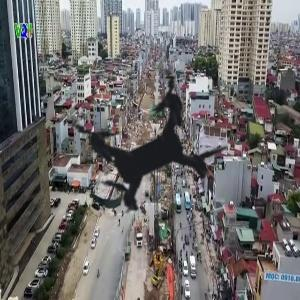drone: (18, 19, 275, 276)
